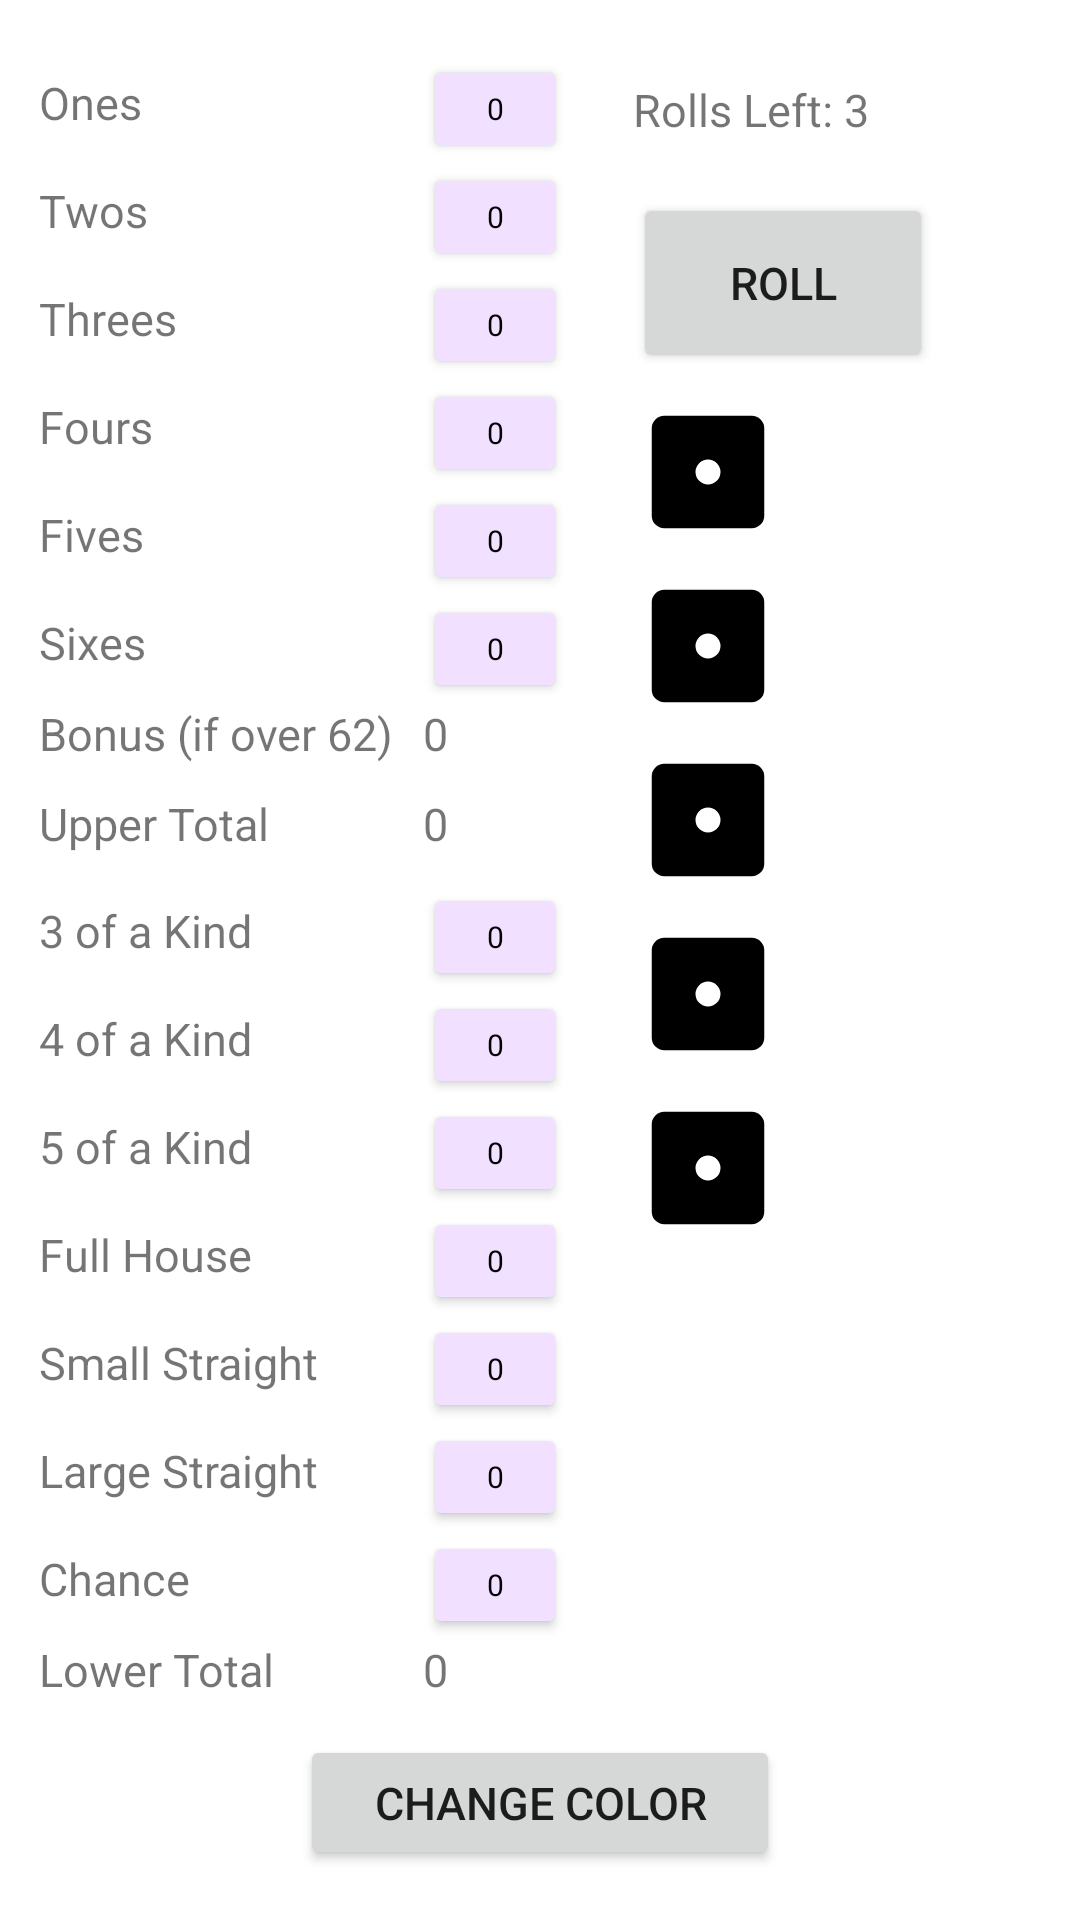

Named icons in this screenshot (1080 x 1920) and their bounding boxes, {"left": x1, "top": y1, "right": x2, "bottom": y2}:
dice: {"left": 651, "top": 415, "right": 765, "bottom": 529}, {"left": 651, "top": 589, "right": 765, "bottom": 703}, {"left": 651, "top": 763, "right": 765, "bottom": 877}, {"left": 651, "top": 937, "right": 765, "bottom": 1051}, {"left": 651, "top": 1111, "right": 765, "bottom": 1225}
